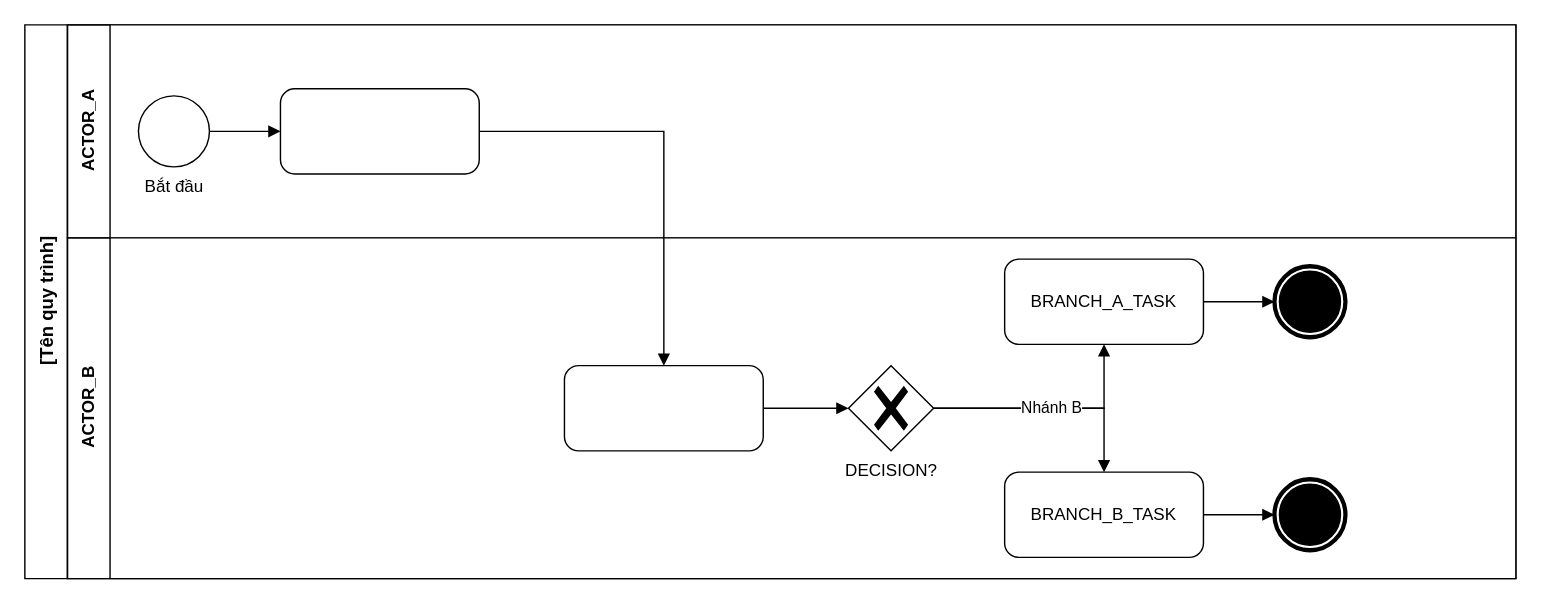
Image size: 1541x605. Some labels were removed from this diagram. The shapes that lost their labels are listed below. From the top down, each one's centre as x and y in pixels, then its label:
point 379,130: TASK_1
point 1309,301: END_A
point 663,407: TASK_2
point 1309,514: END_B
